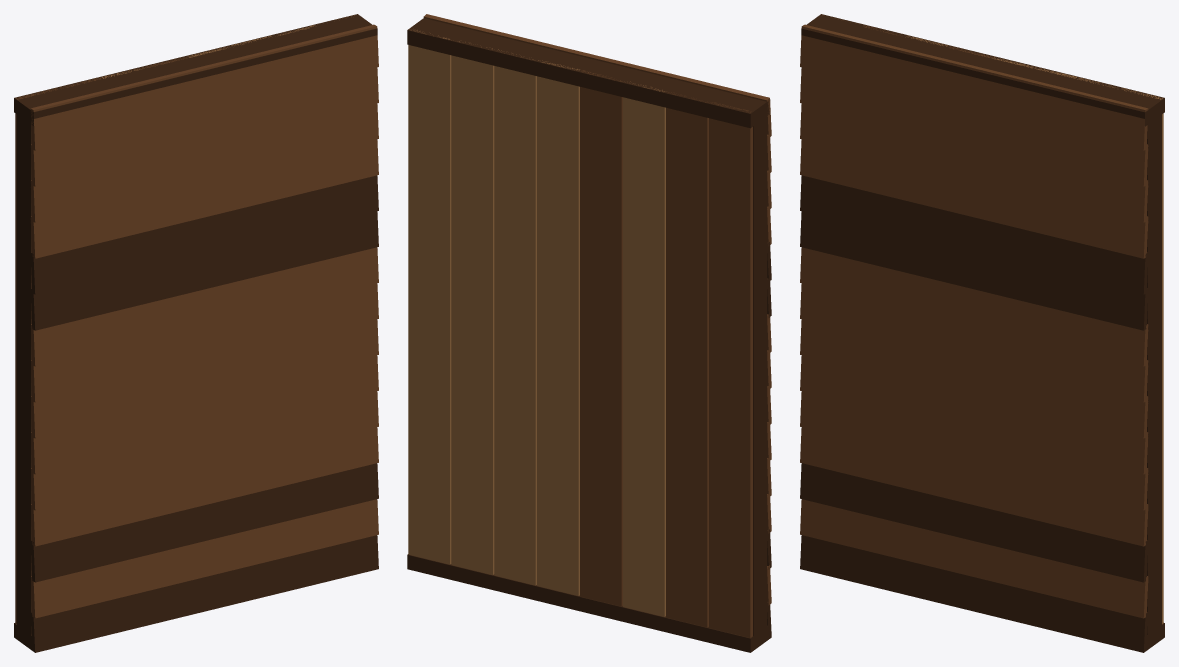
File: SM_Wall_Plank.obj
3 renders of one model, left to right at view 1: azimuth 30°, elevation 25°; view 2: azimuth 150°, elevation 25°; view 3: azimuth 330°, elevation 25°, orthographic.
Parts seen in each view (by area): view 1: SM_Wall_Plank; view 2: SM_Wall_Plank; view 3: SM_Wall_Plank.
Part boxes in pixels (<box>): SM_Wall_Plank: <box>14,14,378,652</box>; SM_Wall_Plank: <box>407,14,771,652</box>; SM_Wall_Plank: <box>800,14,1164,652</box>.
Bounding box in the file's own units: 2 × 3.01 × 0.2137.
